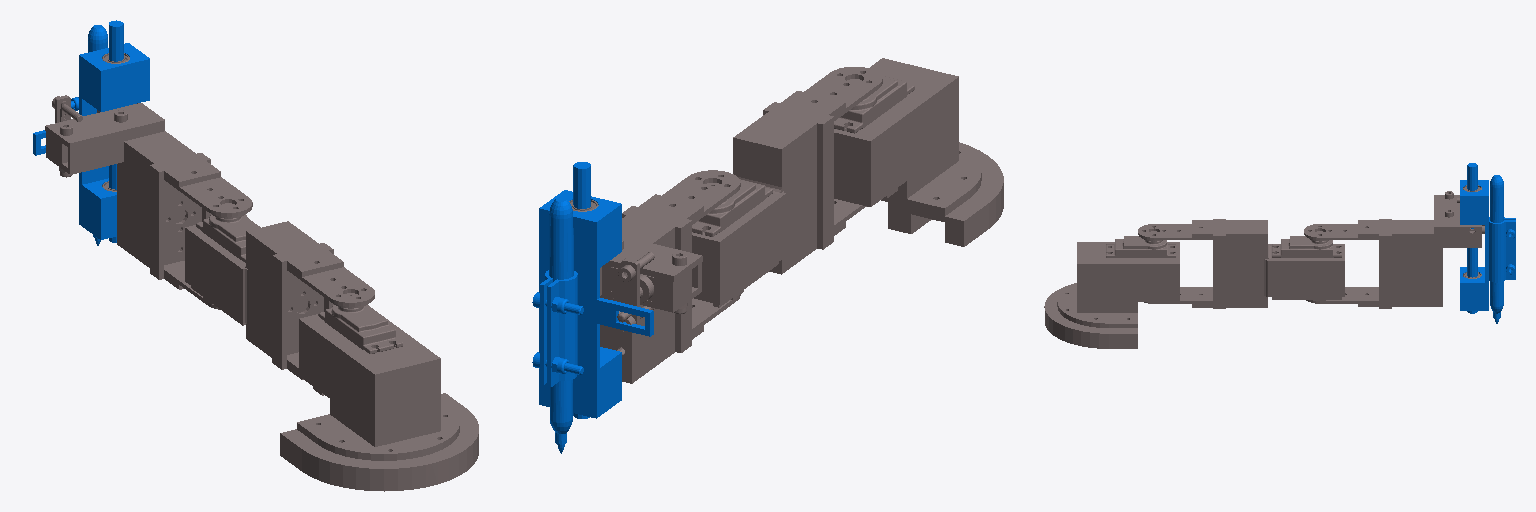
URDF robot description (drawing_robot_description):
<?xml version="1.0" ?>
<!-- =================================================================================== -->
<!-- |    This document was autogenerated by xacro from [local-path]/ws_moveit/src/robotics_arm_collection_for_ros/drawing_robot_description/urdf/drawing_robot_description.urdf.xacro | -->
<!-- |    EDITING THIS FILE BY HAND IS NOT RECOMMENDED                                 | -->
<!-- =================================================================================== -->
<robot name="drawing_robot_description">
    <material name="grey_pla">
        <color rgba="0.552 0.501 0.501 1" />
    </material>
    <material name="blue_pla">
        <color rgba="0.035 0.517 0.937 1" />
    </material>
    <gazebo reference="base_link">
        <material>Gazebo/Grey</material>
        <selfCollide>true</selfCollide>
        <plugin name="gazebo_ros_control">
            <robotNamespace>/</robotNamespace>
        </plugin>
    </gazebo>
    <gazebo reference="arm_1">
        <material>Gazebo/Grey</material>
        <selfCollide>true</selfCollide>
    </gazebo>
    <gazebo reference="arm_2">
        <material>Gazebo/Grey</material>
        <selfCollide>true</selfCollide>
    </gazebo>
    <gazebo reference="hand">
        <material>Gazebo/SkyBlue</material>
        <selfCollide>true</selfCollide>
    </gazebo>
    <transmission name="arm1_trans">
        <type>transmission_interface/SimpleTransmission</type>
        <joint name="base_to_arm1">
            <hardwareInterface>hardware_interface/PositionJointInterface</hardwareInterface>
        </joint>
        <actuator name="arm1_motor">
            <hardwareInterface>hardware_interface/PositionJointInterface</hardwareInterface>
            <mechanicalReduction>1</mechanicalReduction>
        </actuator>
    </transmission>
    <transmission name="arm2_trans">
        <type>transmission_interface/SimpleTransmission</type>
        <joint name="arm_2_to_arm_1">
            <hardwareInterface>hardware_interface/PositionJointInterface</hardwareInterface>
        </joint>
        <actuator name="arm2_motor">
            <hardwareInterface>hardware_interface/PositionJointInterface</hardwareInterface>
            <mechanicalReduction>1</mechanicalReduction>
        </actuator>
    </transmission>
    <transmission name="hand_trans">
        <type>transmission_interface/SimpleTransmission</type>
        <joint name="hand_to_arm2">
            <hardwareInterface>hardware_interface/EffortJointInterface</hardwareInterface>
        </joint>
        <actuator name="hand_motor">
            <hardwareInterface>hardware_interface/EffortJointInterface</hardwareInterface>
            <mechanicalReduction>1</mechanicalReduction>
        </actuator>
    </transmission>
    <gazebo>
        <plugin filename="libgazebo_ros_control.so" name="control">
            <robotNamespace>/</robotNamespace>
        </plugin>
    </gazebo>
    <!-- ____________________________________ BASE LINK DEFINITIONS ______________________________________________-->
    <link name="world" />
    <joint name="base_joint" type="fixed">
        <parent link="world" />
        <child link="base_link" />
        <origin xyz="0.0 0.0 0.0175" />
    </joint>
    <link name="base_link">
        <inertial>
            <origin rpy="0 0 0" xyz="2.2369E-05 -0.0095991 0.018203" />
            <mass value="0.19207" />
            <inertia ixx="0.00010604" ixy="-5.7604E-12" ixz="2.8656E-10" iyy="9.0218E-05" iyz="-8.2785E-06" izz="0.0001446" />
        </inertial>
        <visual>
            <origin rpy="0 0 0" xyz="0 0 0" />
            <geometry>
                <mesh filename="package://drawing_robot_description/meshes/base_link.STL" />
            </geometry>
            <material name="grey_pla" />
        </visual>
        <collision>
            <origin rpy="0 0 0" xyz="0 0 0" />
            <geometry>
                <mesh filename="package://drawing_robot_description/meshes/base_link.STL" />
            </geometry>
        </collision>
    </link>
    <!-- ________________________________________ ARM 1 DEFINITIONS ______________________________________________-->
    <link name="arm_1">
        <inertial>
            <origin rpy="0 0 0" xyz="9.8801E-05 0.081425 0.0056756" />
            <mass value="0.16147" />
            <inertia ixx="0.00012764" ixy="-5.7417E-12" ixz="2.8659E-10" iyy="5.7319E-05" iyz="6.0193E-06" izz="9.0777E-05" />
        </inertial>
        <visual>
            <origin rpy="0 0 0" xyz="0 0 0" />
            <geometry>
                <mesh filename="package://drawing_robot_description/meshes/arm_1.STL" />
            </geometry>
            <material name="grey_pla" />
        </visual>
        <collision>
            <origin rpy="0 0 0" xyz="0 0 0" />
            <geometry>
                <mesh filename="package://drawing_robot_description/meshes/arm_1.STL" />
            </geometry>
        </collision>
    </link>
    <joint name="base_to_arm1" type="revolute">
        <origin rpy="0 0 0" xyz="0 0.019815 0.0295" />
        <parent link="base_link" />
        <child link="arm_1" />
        <axis xyz="0 0 1" />
        <limit effort="7.605" lower="-1.5707" upper="1.5707" velocity="8.05" />
    </joint>
    <!-- ________________________________________ ARM 2 DEFINITIONS ______________________________________________-->
    <link name="arm_2">
        <inertial>
            <origin rpy="0 0 0" xyz="-0.0040009 0.073708 0.014062" />
            <mass value="0.15444" />
            <inertia ixx="7.5619E-05" ixy="-8.4032E-08" ixz="1.738E-06" iyy="6.6114E-05" iyz="-3.3092E-06" izz="4.0148E-05" />
        </inertial>
        <visual>
            <origin rpy="0 0 0" xyz="0 0 0" />
            <geometry>
                <mesh filename="package://drawing_robot_description/meshes/arm_2.STL" />
            </geometry>
            <material name="grey_pla" />
        </visual>
        <collision>
            <origin rpy="0 0 0" xyz="0 0 0" />
            <geometry>
                <mesh filename="package://drawing_robot_description/meshes/arm_2.STL" />
            </geometry>
        </collision>
    </link>
    <joint name="arm_2_to_arm_1" type="revolute">
        <origin rpy="0 0 0" xyz="0 0.12845 0.00093551" />
        <parent link="arm_1" />
        <child link="arm_2" />
        <axis xyz="0 0 1" />
        <limit effort="7.605" lower="-1.5707" upper="1.5707" velocity="8.05" />
    </joint>
    <!-- ________________________________________ END EFFECTOR DEFINITIONS ______________________________________________-->
    <link name="hand">
        <inertial>
            <origin rpy="0 0 0" xyz="-0.00030849 -0.0071882 0.0050741" />
            <mass value="0.078332" />
            <inertia ixx="9.0141E-05" ixy="-1.4456E-07" ixz="-1.3295E-07" iyy="9.0236E-05" iyz="3.1377E-07" izz="9.782E-06" />
        </inertial>
        <visual>
            <origin rpy="0 0 0" xyz="0 0 0" />
            <geometry>
                <mesh filename="package://drawing_robot_description/meshes/hand.STL" />
            </geometry>
            <material name="blue_pla" />
        </visual>
        <collision>
            <origin rpy="0 0 0" xyz="0 0 0" />
            <geometry>
                <mesh filename="package://drawing_robot_description/meshes/hand.STL" />
            </geometry>
        </collision>
    </link>
    <joint name="hand_to_arm2" type="prismatic">
        <origin rpy="3.1416 0 0" xyz="0 0.11785 0.027766" />
        <parent link="arm_2" />
        <child link="hand" />
        <axis xyz="0 0 -1" />
        <limit effort="0.636" lower="-0.02" upper="0" velocity="3" />
    </joint>
</robot>

--- Render facts (derived) ---
Views: 3 orthographic renders of the robot side by side, from view 1: azimuth 30°, elevation 25°; view 2: azimuth 150°, elevation 25°; view 3: azimuth 270°, elevation 25°.
Robot: drawing_robot_description — 5 links, 4 joints (2 revolute, 1 prismatic, 1 fixed); root link world; default pose: every joint at zero.
Visible links, largest first — view 1: base_link, arm_2, arm_1, hand; view 2: arm_1, base_link, hand, arm_2; view 3: arm_1, base_link, arm_2, hand.
Link boxes in pixels (box(x1,y1,x2,y2)): base_link: box(280, 305, 478, 491); arm_2: box(45, 53, 252, 309); arm_1: box(185, 214, 374, 379); hand: box(33, 20, 149, 245); arm_1: box(692, 67, 882, 307); base_link: box(834, 58, 1003, 246); hand: box(532, 162, 653, 453); arm_2: box(569, 170, 740, 383); arm_1: box(1138, 219, 1344, 308); base_link: box(1044, 236, 1179, 348); arm_2: box(1304, 185, 1484, 308); hand: box(1460, 163, 1515, 323).
Bounding box of the posed robot: 0.1 × 0.3644 × 0.1364 m (x, y, z).
Meshes: 4 distinct files referenced, 4 mesh visuals loaded (4 binary STL).